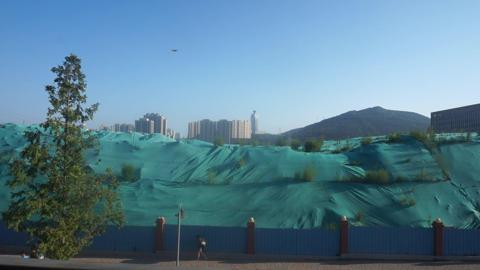UAV: (170, 49, 179, 52)
